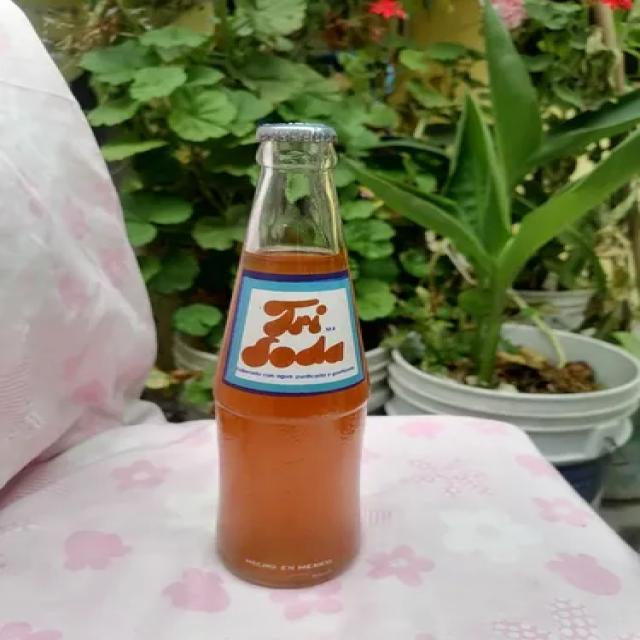Botella: (214, 102, 371, 588)
